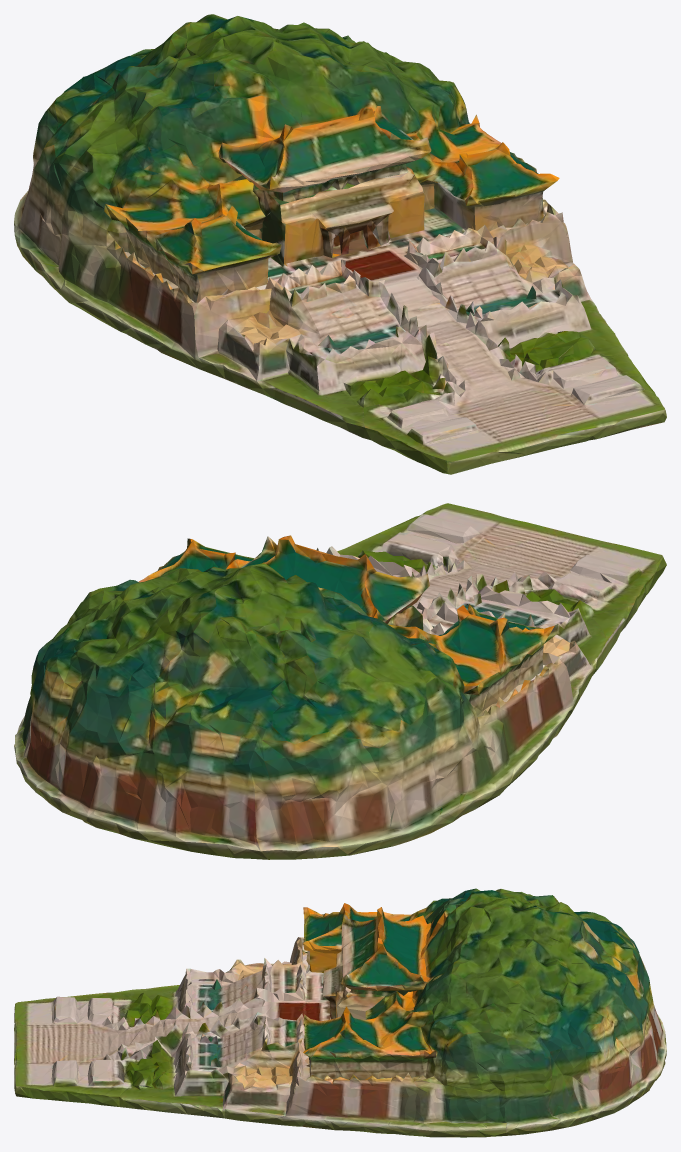
Rendered from national-palace-museum.glb.
The picture shows the model from 3 angles, top to bottom: view 1: azimuth 30°, elevation 25°; view 2: azimuth 150°, elevation 25°; view 3: azimuth 270°, elevation 25°; orthographic projection. The views are drawn at different scales.
Parts seen in each view (by area): view 1: logan-textured.obj; view 2: logan-textured.obj; view 3: logan-textured.obj.
Boxes of the visible parts, bbox=[...] form: logan-textured.obj: bbox=[14, 14, 666, 474]; logan-textured.obj: bbox=[14, 503, 666, 859]; logan-textured.obj: bbox=[14, 888, 666, 1137].
Size of the model in its own units: 0.6113 by 0.257 by 1.
Materials: 1 (1 with a texture image).
